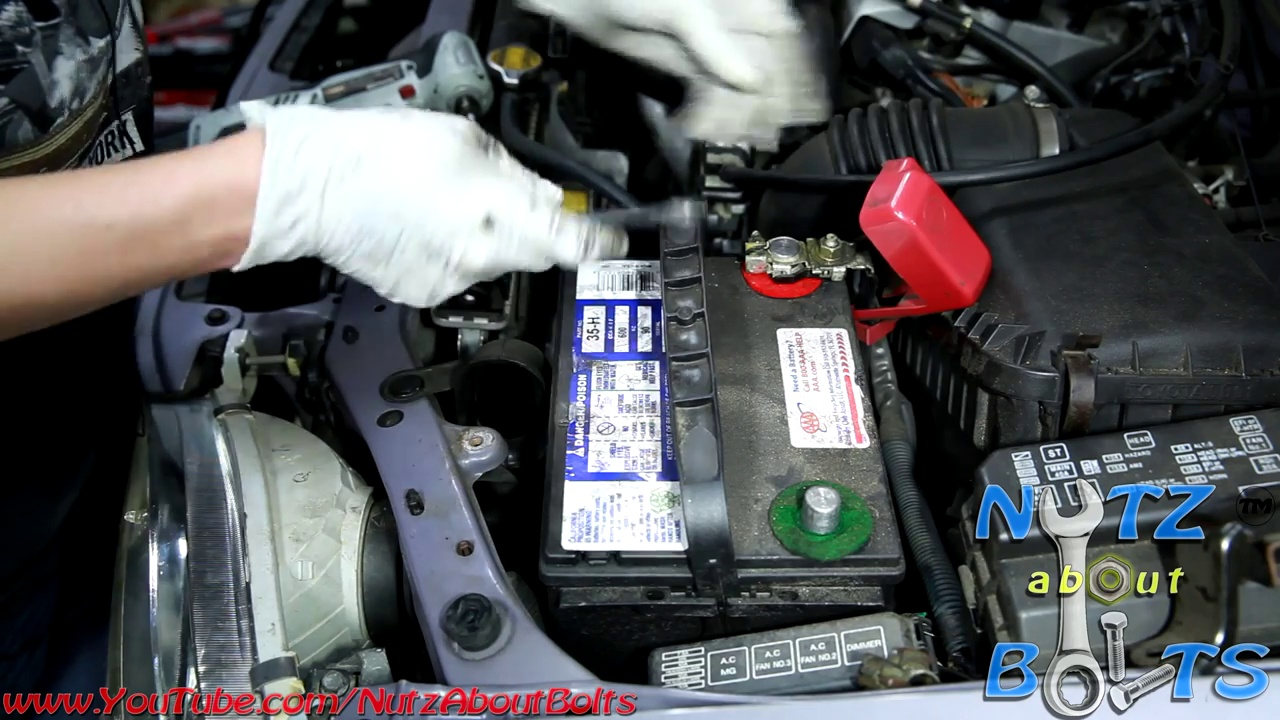battery: (537, 206, 911, 583)
neg_disconnected: (754, 453, 872, 558)
pos_connected: (728, 171, 946, 320)
